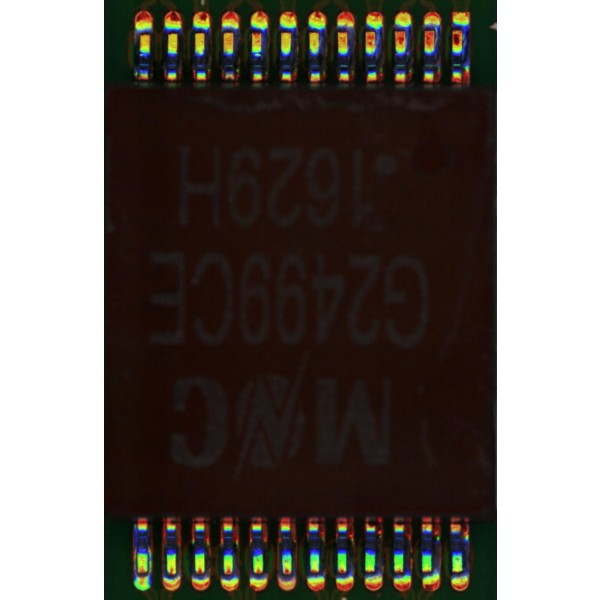Bad_podu: (138, 568, 146, 584)
Bad_qiaojiao: (148, 546, 153, 573), (133, 548, 138, 574)
